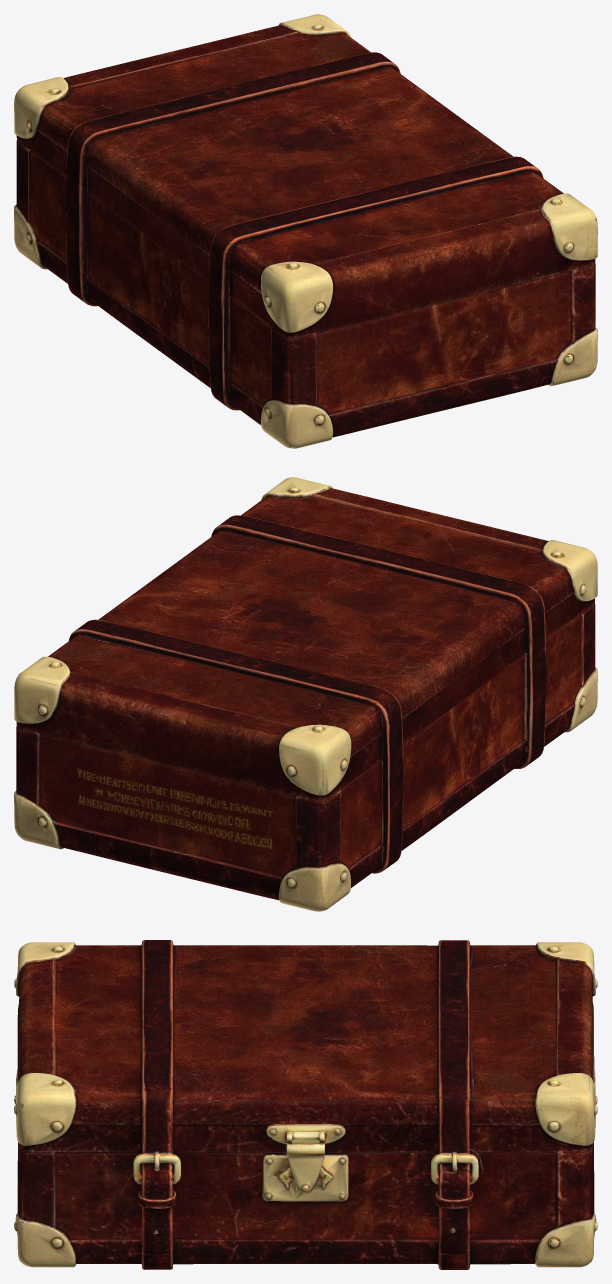
File: trunk.glb
3 renders of one model, top to bottom at view 1: azimuth 30°, elevation 25°; view 2: azimuth 150°, elevation 25°; view 3: azimuth 270°, elevation 25°, orthographic. The views are drawn at different scales.
Parts seen in each view (by area): view 1: trunk; view 2: trunk; view 3: trunk.
Boxes of the visible parts, bbox=[...] form: trunk: bbox=[14, 14, 597, 448]; trunk: bbox=[14, 477, 597, 911]; trunk: bbox=[14, 940, 597, 1269].
Bounding box in the file's own units: 2.06 × 1 × 2.9.
1 material, 1 textured.
